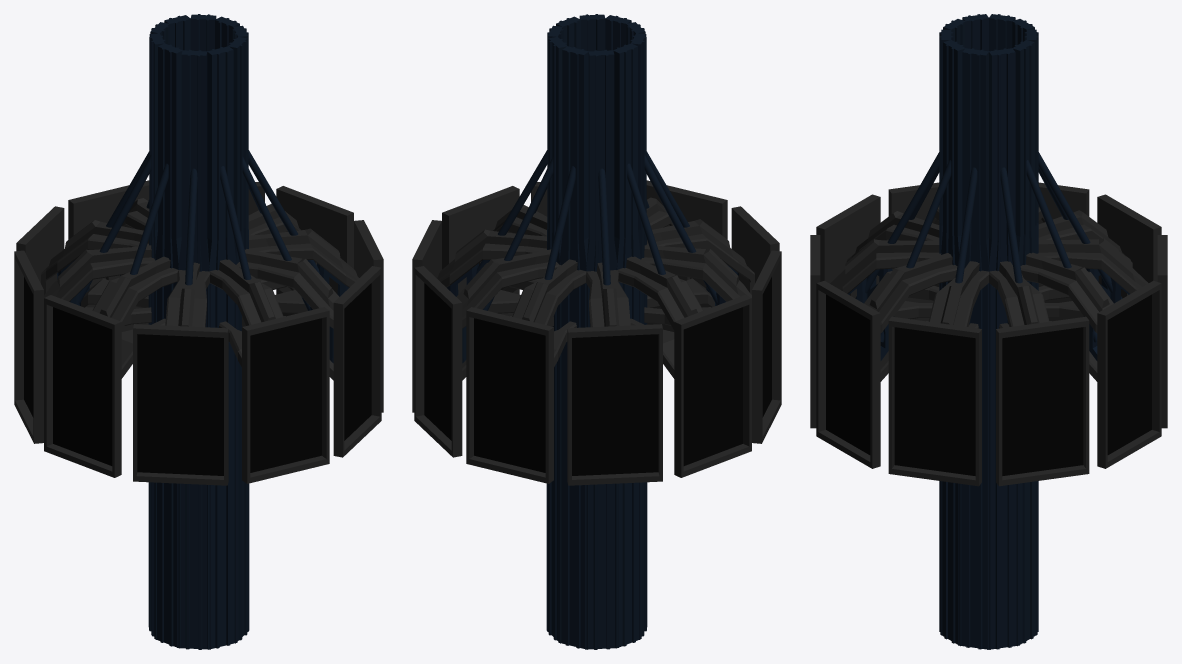
The model's file is mobiles.glb.
3 renders of one model, left to right at view 1: azimuth 30°, elevation 25°; view 2: azimuth 150°, elevation 25°; view 3: azimuth 270°, elevation 25°, orthographic.
Parts seen in each view (by area): view 1: mobile; view 2: mobile; view 3: mobile.
Part boxes in pixels (x1,y1,x2,y2): mobile: (14,14,383,649); mobile: (412,14,781,649); mobile: (810,14,1167,649).
Bounding box in the file's own units: 6.44 × 11.43 × 6.24.
